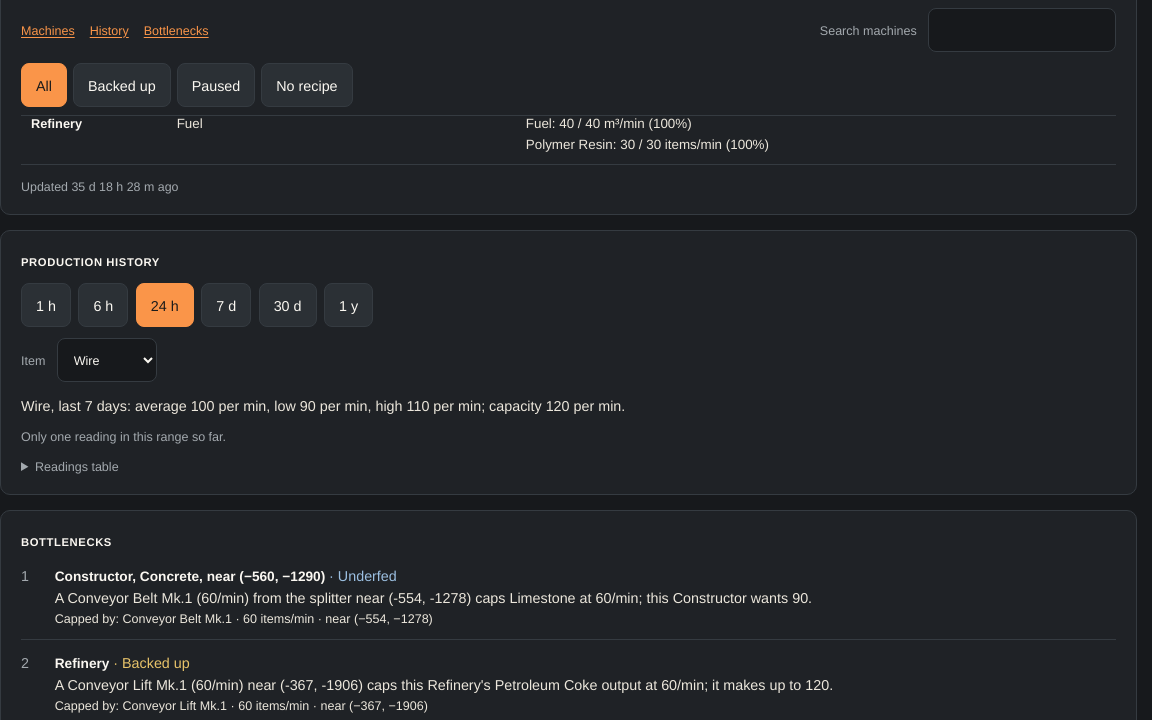
Test: FactoryView deep links › opens production history on the item from ?item=, and writes a new pick back
(page scrolled)
Select "Iron Plate" in the dropdown labelled "Item". click: (107, 360)
box: [57, 338, 157, 382]
(page scrolled)
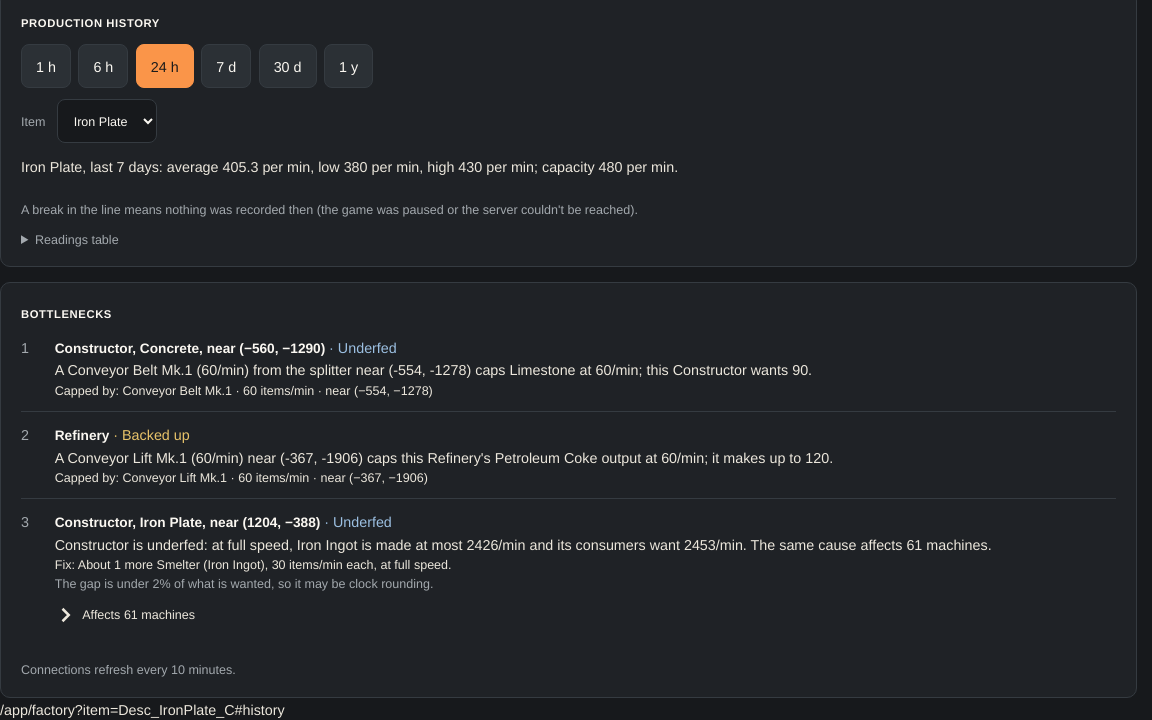
Check: the text named "URL" shows "item=Desc_IronPlate_C", box [0, 700, 285, 718]
